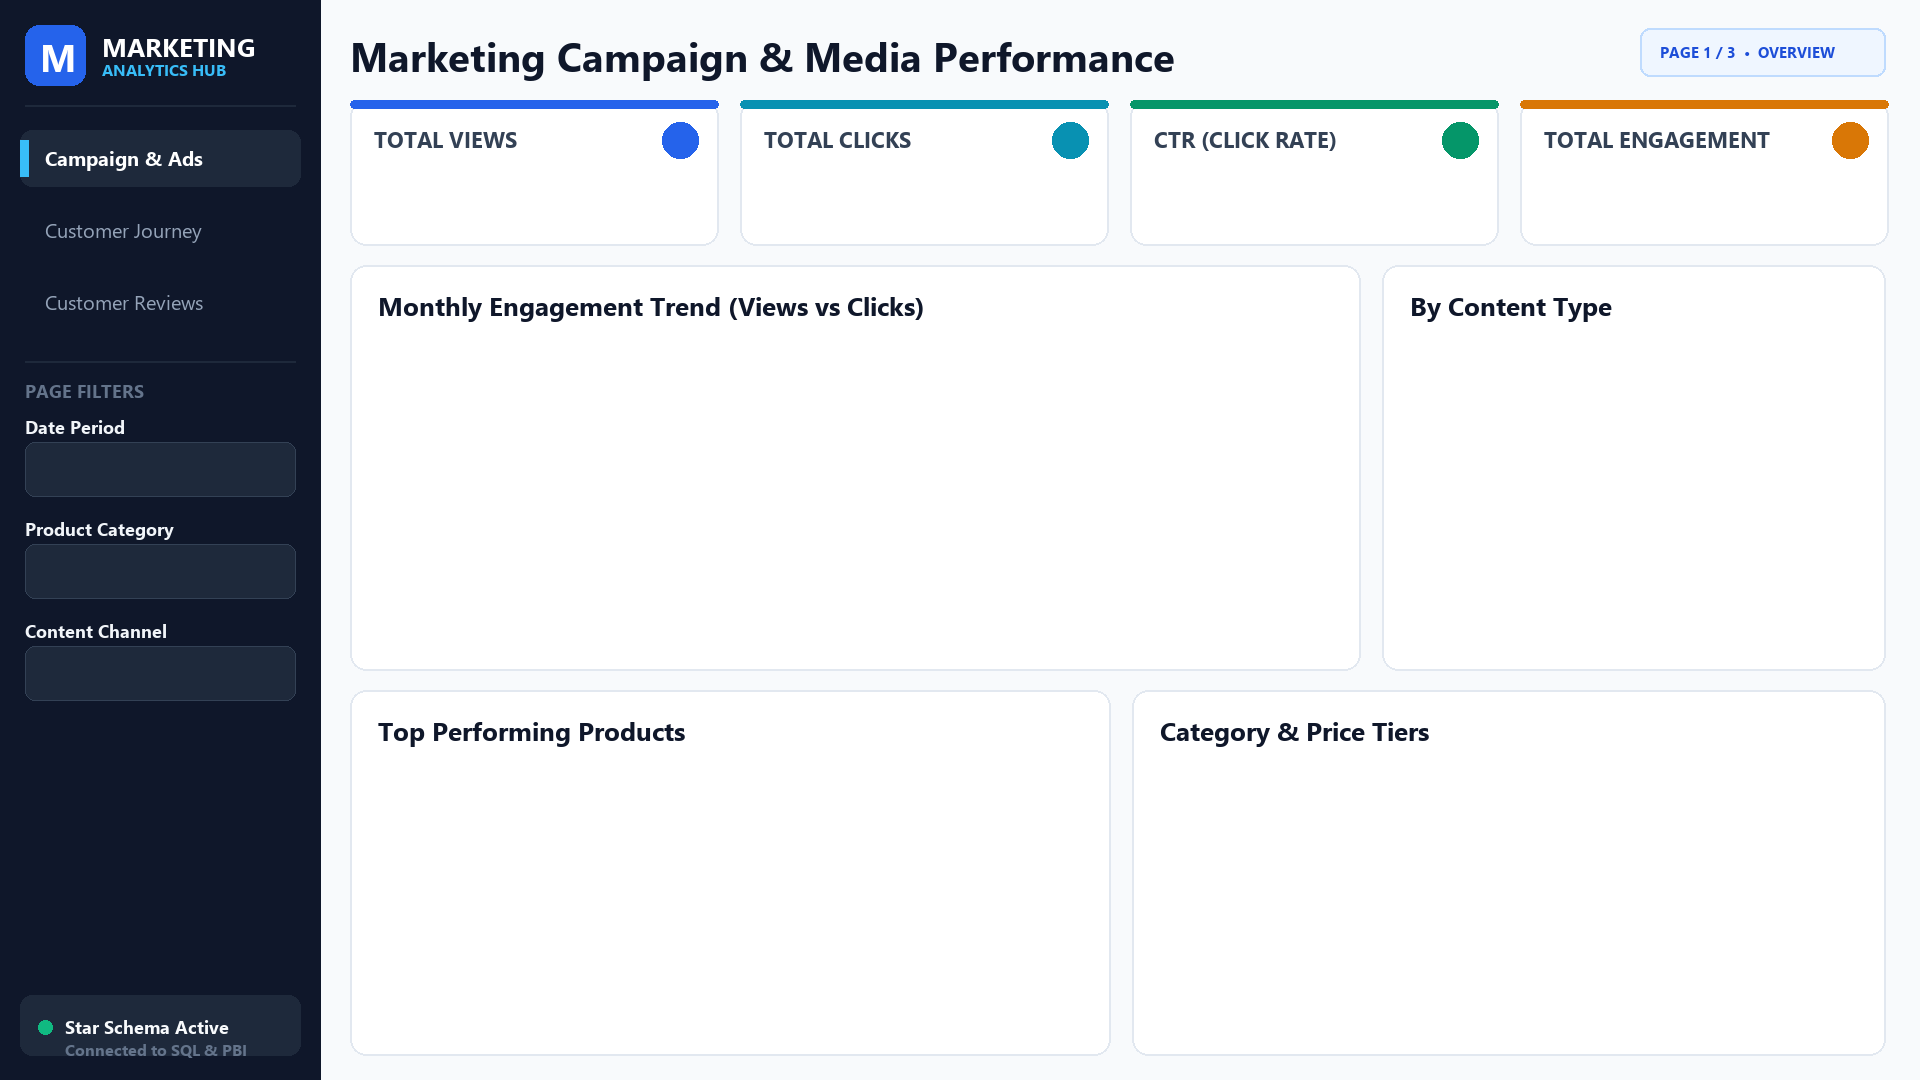

This screenshot's page, from the dashboard's own definition file:
{"tool":"powerbi","page":{"name":"Campaign & Ads","canvas":[1920,1080],"ordinal":0},"visuals":[{"type":"cardVisual","fields":{"Data":["Key Measure.Total Views"]},"box":[370,137.5,282.5,107.5],"z":0},{"type":"cardVisual","fields":{"Data":["Key Measure.Total Clicks"]},"box":[745,137.5,282.5,107.5],"z":1000},{"type":"cardVisual","fields":{"Data":["Key Measure.CTR"]},"box":[1130,137.5,282.5,107.5],"z":2000},{"type":"cardVisual","fields":{"Data":["Key Measure.Total Engagements"]},"box":[1542.5,137.5,282.5,107.5],"z":3000},{"type":"slicer","fields":{"Values":["Dim_products.ProductName"]},"box":[27.5,525,267.5,55],"z":4000},{"type":"slicer","fields":{"Values":["Fact_engagement_data.ContentType"]},"box":[27.5,630,267.5,57.5],"z":5000},{"type":"lineStackedColumnComboChart","fields":{"Category":["dCalendar.Month Name"],"Y":["Key Measure.Total Views"],"Y2":["Key Measure.Total Clicks"]},"box":[370.9,314.7,985.7,344],"z":6000},{"type":"lineClusteredColumnComboChart","fields":{"Category":["Fact_engagement_data.ContentType"],"Y":["Key Measure.Total Clicks"],"Y2":["Key Measure.CTR"]},"box":[1390.7,314.7,502.6,344],"z":7000},{"type":"lineClusteredColumnComboChart","fields":{"Category":["Dim_products.ProductName"],"Y":["Key Measure.Total Views"],"Y2":["Key Measure.Total Clicks"]},"box":[370,740,740,320],"z":8000},{"type":"slicer","fields":{"Values":["dCalendar.Date.Variation.Date Hierarchy.Year","dCalendar.Month Name"]},"box":[26.8,427,268.4,61],"z":9000},{"type":"lineStackedColumnComboChart","fields":{"Category":["Dim_products.PriceCategory"],"Y":["Key Measure.Total Views"],"Y2":["Key Measure.Total Clicks"]},"box":[1152.5,740,740,340],"z":10000},{"type":"actionButton","box":[26.8,190.3,268.4,53.7],"z":10001},{"type":"actionButton","box":[26.8,261.1,268.4,53.7],"z":10002}]}

Visuals, with their boxes on the page's 1920x1080 design canvas (x1, y1, x2, y2). These are canvas units, not pixel positions in the 1920x1080 screenshot, which may show the page scaled, cropped or inside an application window:
cardVisual - Key Measure.Total Views: pyautogui.locateOnScreen(370, 138, 652, 245)
cardVisual - Key Measure.Total Clicks: pyautogui.locateOnScreen(745, 138, 1028, 245)
cardVisual - Key Measure.CTR: pyautogui.locateOnScreen(1130, 138, 1412, 245)
cardVisual - Key Measure.Total Engagements: pyautogui.locateOnScreen(1542, 138, 1825, 245)
slicer - Dim_products.ProductName: pyautogui.locateOnScreen(28, 525, 295, 580)
slicer - Fact_engagement_data.ContentType: pyautogui.locateOnScreen(28, 630, 295, 688)
lineStackedColumnComboChart - dCalendar.Month Name x Key Measure.Total Views: pyautogui.locateOnScreen(371, 315, 1357, 659)
lineClusteredColumnComboChart - Fact_engagement_data.ContentType x Key Measure.Total Clicks: pyautogui.locateOnScreen(1391, 315, 1893, 659)
lineClusteredColumnComboChart - Dim_products.ProductName x Key Measure.Total Views: pyautogui.locateOnScreen(370, 740, 1110, 1060)
slicer - dCalendar.Date.Variation.Date Hierarchy.Year x dCalendar.Month Name: pyautogui.locateOnScreen(27, 427, 295, 488)
lineStackedColumnComboChart - Dim_products.PriceCategory x Key Measure.Total Views: pyautogui.locateOnScreen(1152, 740, 1892, 1080)
actionButton: pyautogui.locateOnScreen(27, 190, 295, 244)
actionButton: pyautogui.locateOnScreen(27, 261, 295, 315)
